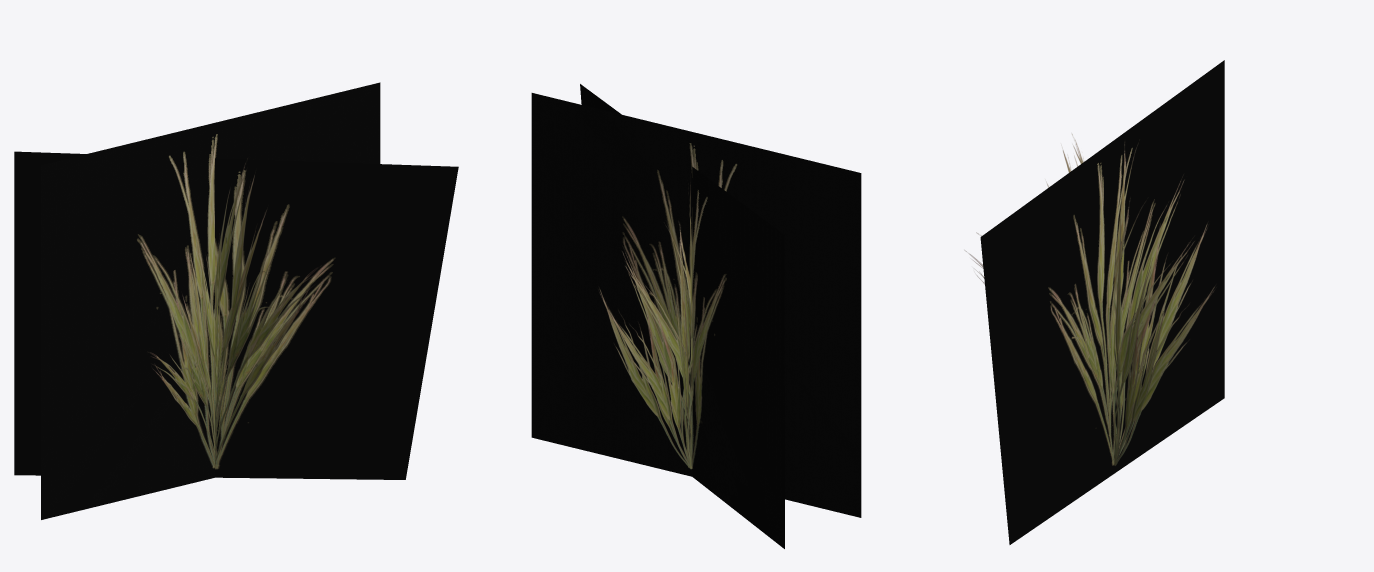
The model's file is spikegrass0offset_lod0.glb.
3 views of the same model, side by side, from view 1: azimuth 30°, elevation 25°; view 2: azimuth 150°, elevation 25°; view 3: azimuth 270°, elevation 25° (orthographic). The views are drawn at different scales.
Parts seen in each view (by area): view 1: Grass-01; view 2: Grass-01; view 3: Grass-01.
Boxes of the visible parts, x1,y1,x2,y2 form: Grass-01: [14, 82, 458, 519]; Grass-01: [531, 84, 861, 548]; Grass-01: [965, 60, 1224, 544].
Bounding box in the file's own units: 1.25 × 1.34 × 1.33.
2 materials, 2 textured.
